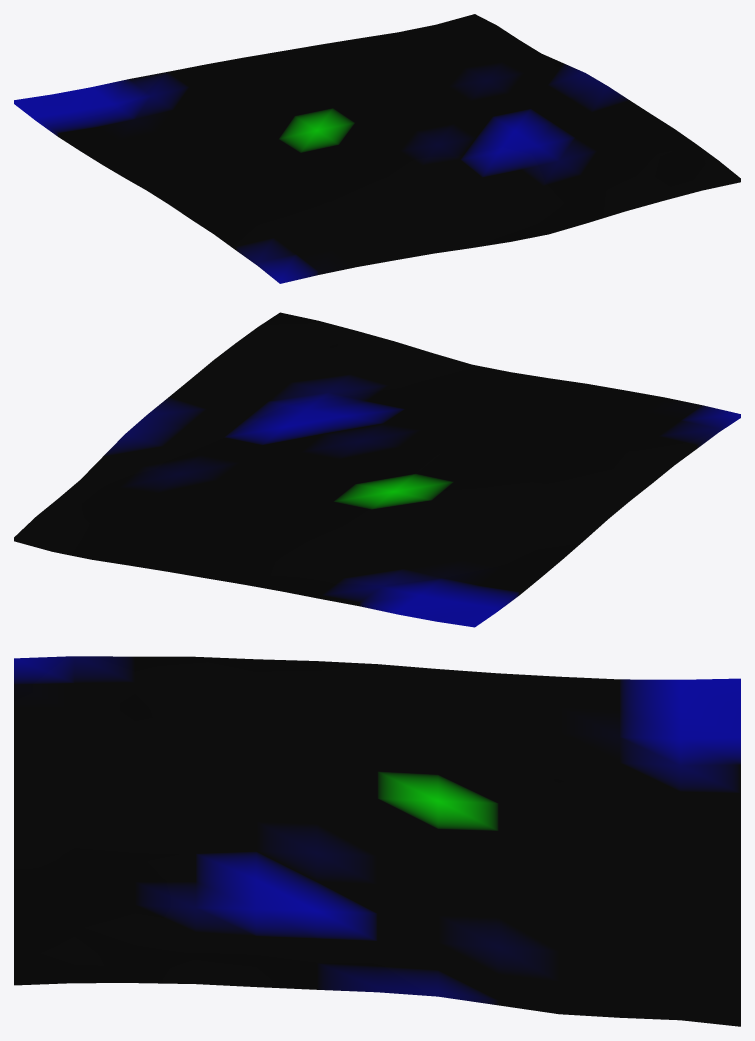
The model's file is coast_11_1.glb.
3 renders of one model, top to bottom at view 1: azimuth 30°, elevation 25°; view 2: azimuth 150°, elevation 25°; view 3: azimuth 270°, elevation 25°, orthographic. The views are drawn at different scales.
Visible parts, largest first — view 1: terrain; view 2: terrain; view 3: terrain.
Boxes of the visible parts, bbox=[...] form: terrain: bbox=[14, 14, 740, 283]; terrain: bbox=[14, 312, 740, 627]; terrain: bbox=[14, 656, 740, 1026].
Bounding box in the file's own units: 192 × 18.99 × 192.
